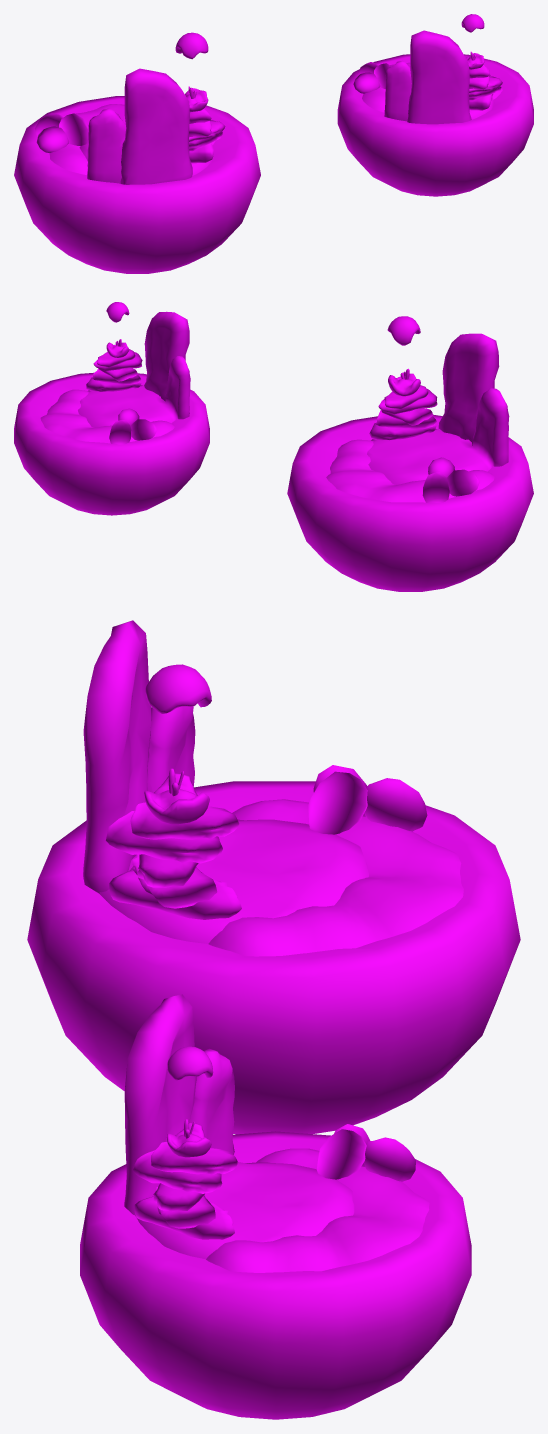
File: Nests.FBX
3 renders of one model, top to bottom at view 1: azimuth 30°, elevation 25°; view 2: azimuth 150°, elevation 25°; view 3: azimuth 270°, elevation 25°, orthographic. The views are drawn at different scales.
Visible parts, largest first — view 1: Nest_low001, Nest_low, GeodeTop_low001, Object002, GeodeTop_low; view 2: Nest_low001, Nest_low, GeodeTop_low001, Object002; view 3: Nest_low001, Nest_low, GeodeTop_low001, Object002, GeodeTop_low, Object001.
Boxes of the visible parts, <box> form: Nest_low001: <box>14,68,260,273</box>; Nest_low: <box>337,30,533,196</box>; GeodeTop_low001: <box>175,32,208,59</box>; Object002: <box>185,86,208,112</box>; GeodeTop_low: <box>461,14,484,32</box>; Nest_low001: <box>287,333,533,591</box>; Nest_low: <box>14,311,209,515</box>; GeodeTop_low001: <box>387,316,420,345</box>; Object002: <box>388,368,420,396</box>; Nest_low001: <box>27,620,520,1134</box>; Nest_low: <box>80,994,471,1419</box>; GeodeTop_low001: <box>145,664,211,713</box>; Object002: <box>144,768,209,824</box>; GeodeTop_low: <box>167,1046,213,1080</box>; Object001: <box>166,1119,211,1157</box>.
Size of the model in its own units: 117 by 53.07 by 50.89.
